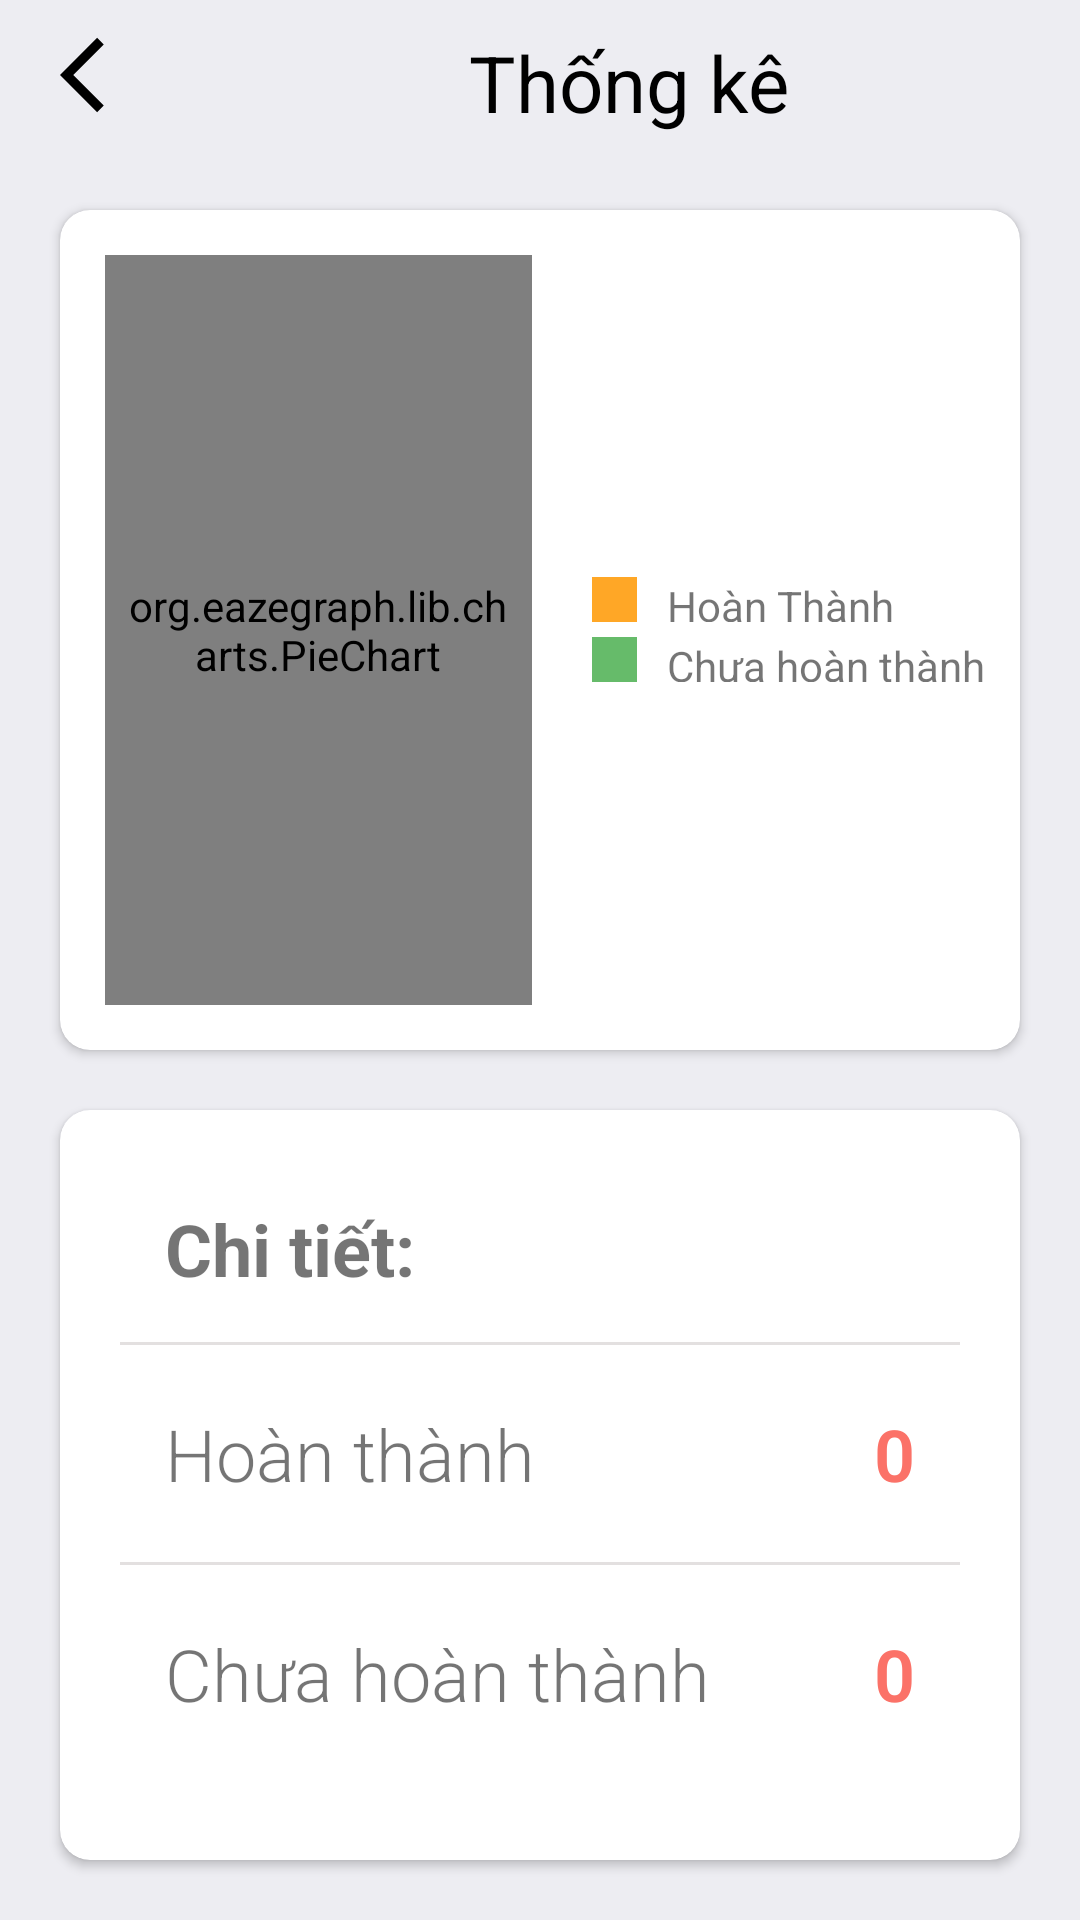

Screen size 1080 x 1920. Icon name, then its center in pixels as (x,y):
arrow back: (82,75)
